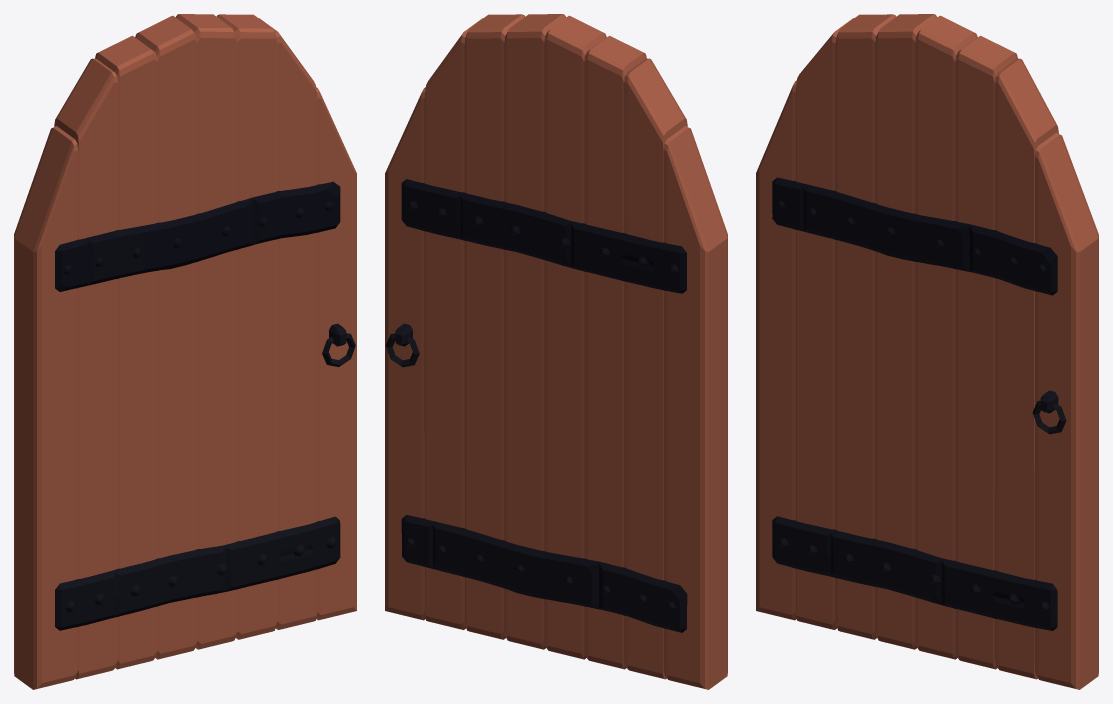
Rendered from door.fbx.
3 views of the same model, side by side, from view 1: azimuth 30°, elevation 25°; view 2: azimuth 150°, elevation 25°; view 3: azimuth 330°, elevation 25° (orthographic).
Parts seen in each view (by area): view 1: door; view 2: door; view 3: door.
Part boxes in pixels (x1,y1,x2,y2): door: (14, 14, 356, 689); door: (385, 14, 727, 689); door: (756, 14, 1098, 689).
Size of the model in its own units: 114 by 210 by 25.43.
